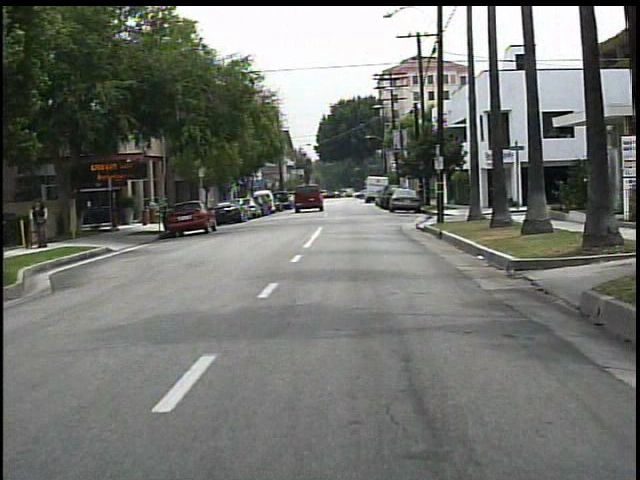person: (30, 196, 56, 250)
